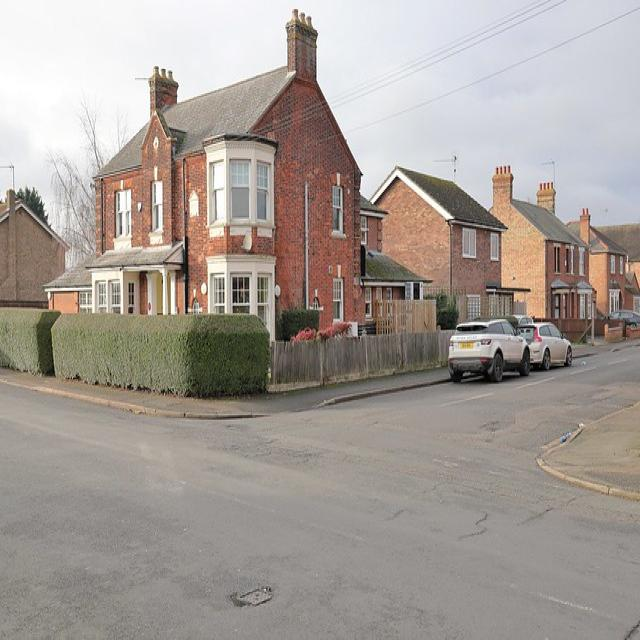building: (89, 12, 363, 387), (360, 168, 510, 346), (472, 173, 607, 343)
